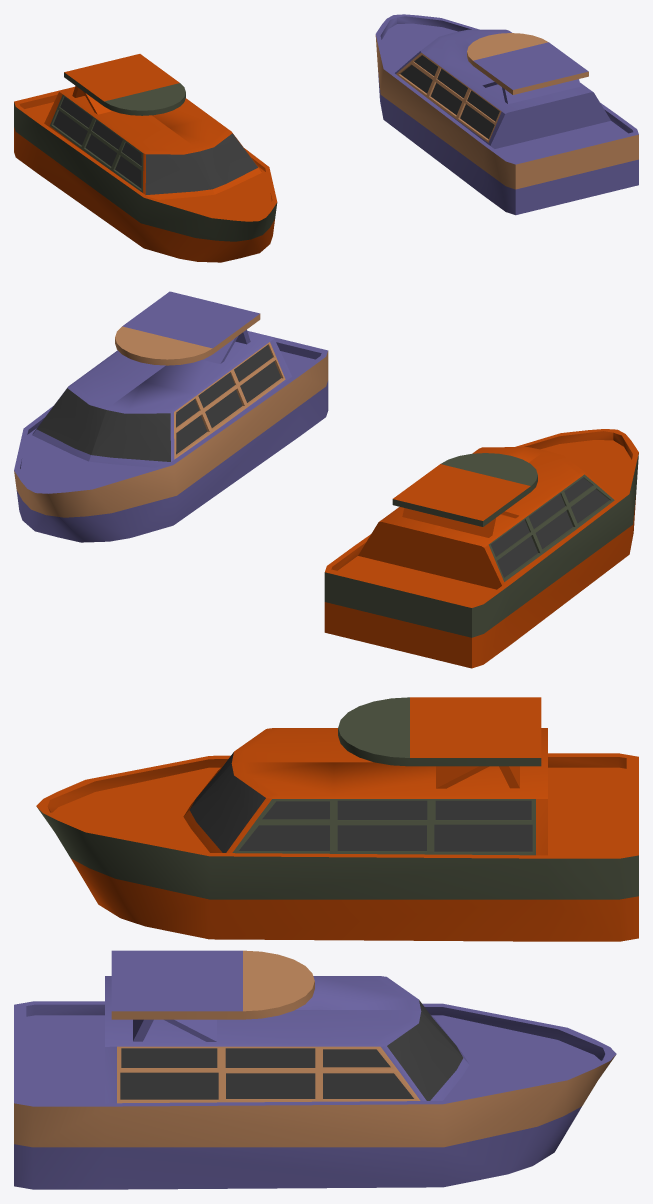
File: Ship.fbx
The picture shows the model from 3 angles, top to bottom: view 1: azimuth 30°, elevation 25°; view 2: azimuth 150°, elevation 25°; view 3: azimuth 270°, elevation 25°; orthographic projection. The views are drawn at different scales.
Visible parts, largest first — view 1: Body_geo (×2), Border_geo (×2), Glss_geo, Glass_geo; view 2: Body_geo (×2), Border_geo (×2), Glass_geo, Glss_geo; view 3: Body_geo (×2), Border_geo (×2), Glass_geo, Glss_geo.
Part boxes in pixels (x1,y1,x2,y2): Body_geo (×2): [14, 14, 638, 262]; Border_geo (×2): [14, 33, 638, 241]; Glss_geo: [53, 97, 257, 194]; Glass_geo: [400, 55, 499, 139]; Body_geo (×2): [14, 291, 638, 668]; Border_geo (×2): [14, 314, 638, 637]; Glass_geo: [37, 345, 281, 461]; Glss_geo: [490, 477, 609, 577]; Body_geo (×2): [14, 697, 638, 1189]; Border_geo (×2): [14, 697, 638, 1147]; Glass_geo: [120, 1000, 462, 1100]; Glss_geo: [189, 752, 532, 852].
Bounding box in the file's own units: 728 × 153 × 543.
